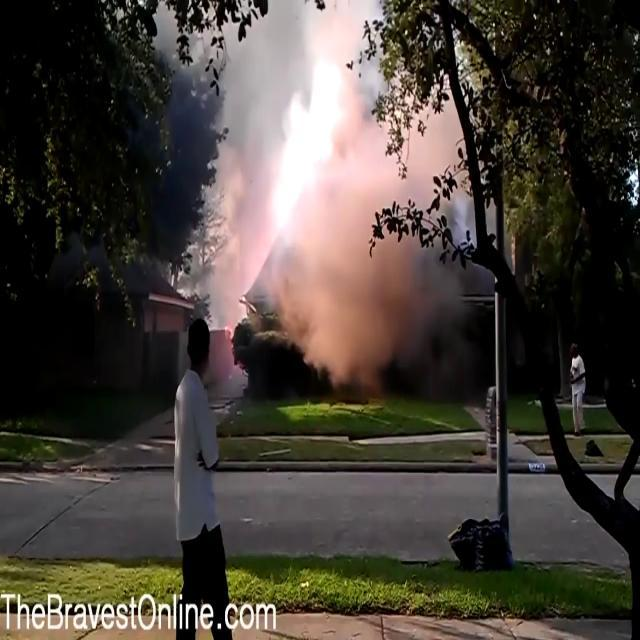Smoke: (208, 21, 480, 408)
